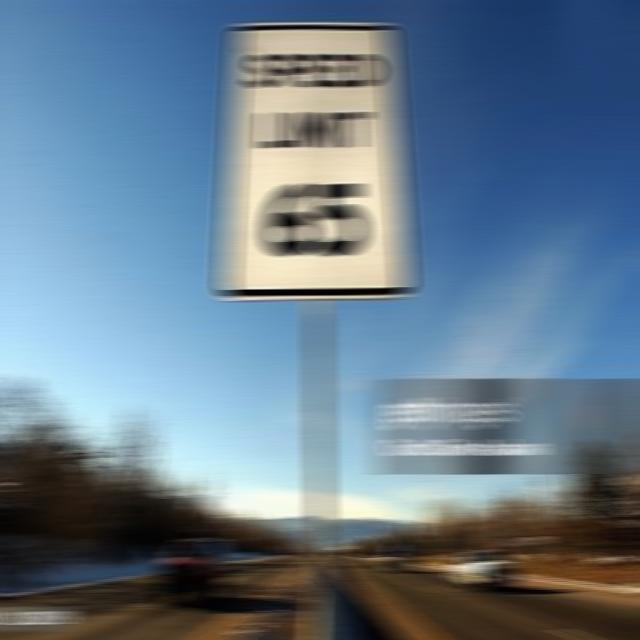speedLimit65: (214, 19, 416, 303)
